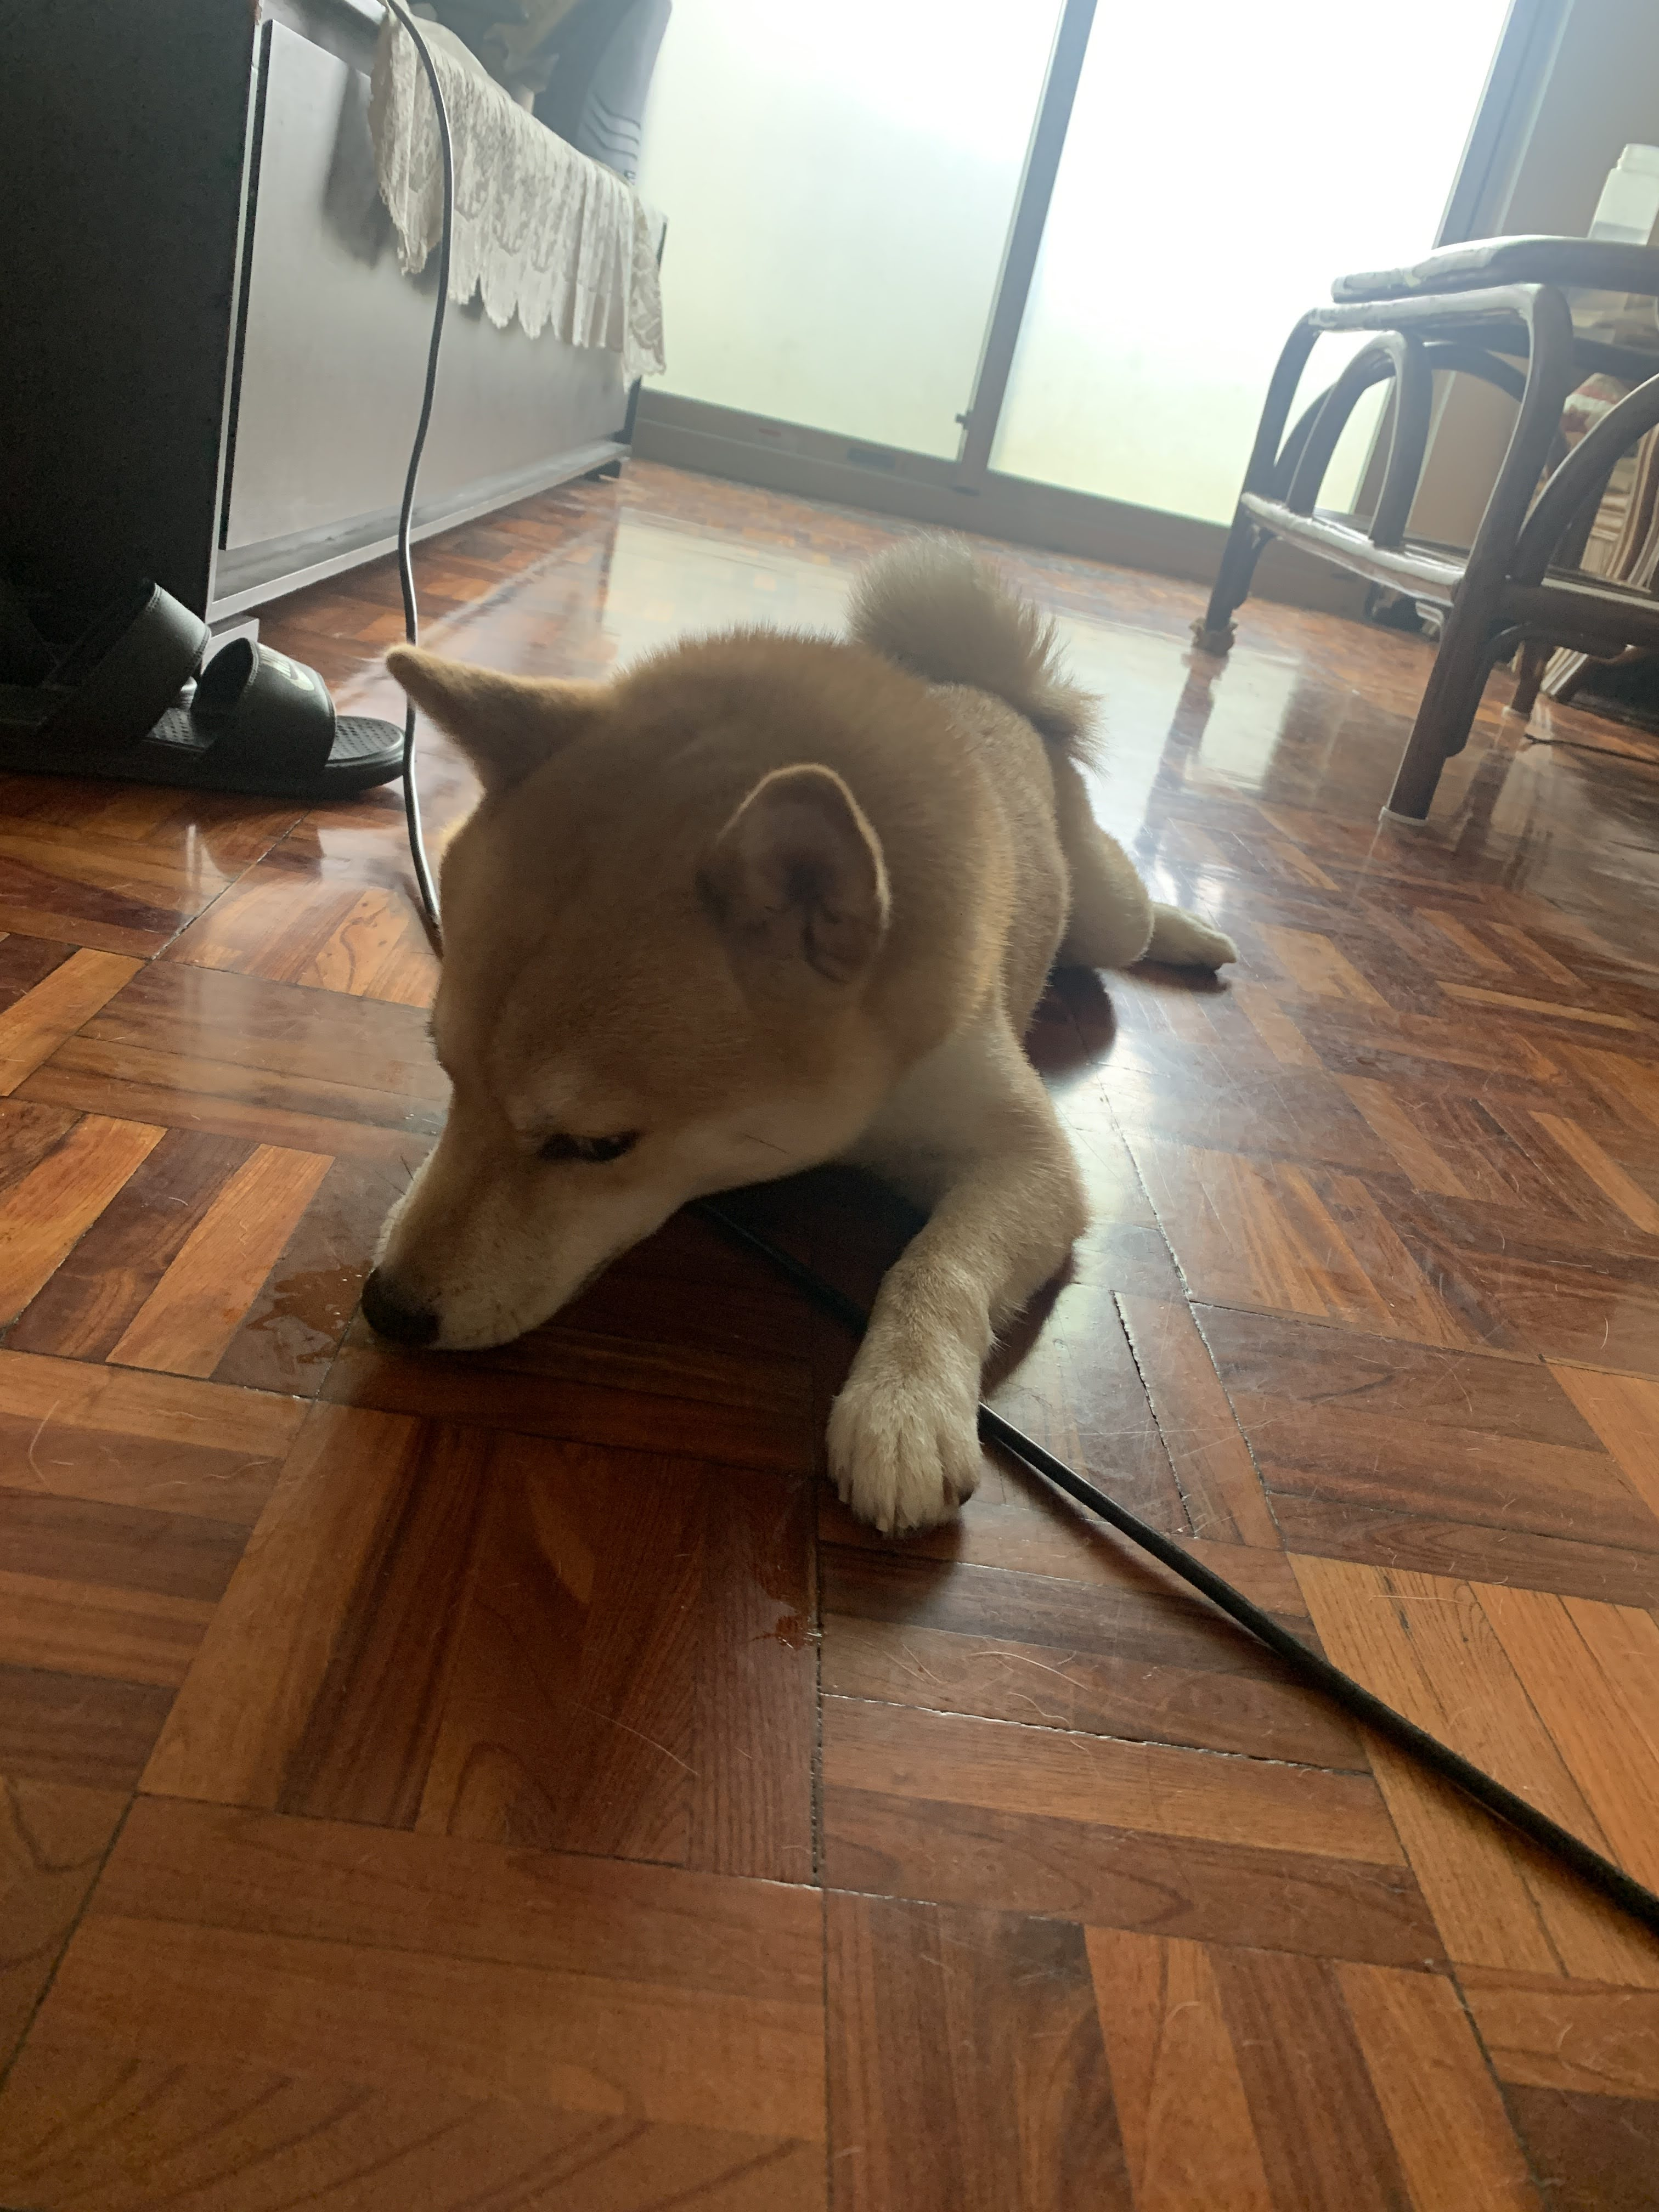Get down: (382, 493, 1197, 1576)
